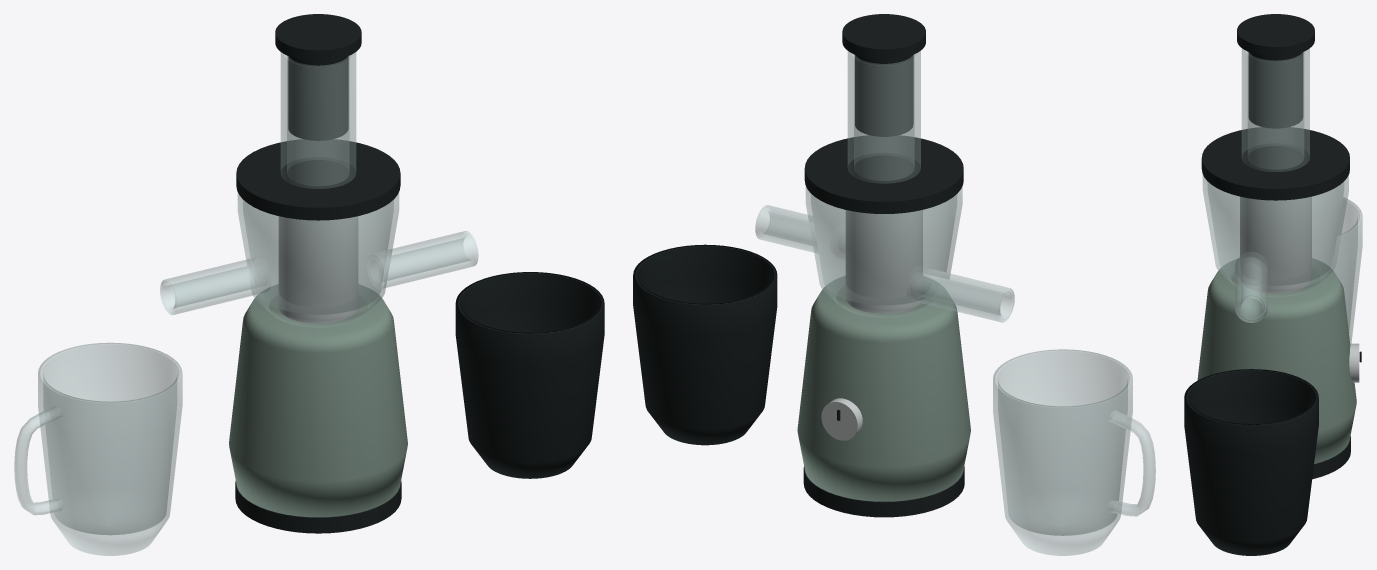
The model's file is kitchen-slow-juicer.glb.
3 views of the same model, side by side, from view 1: azimuth 30°, elevation 25°; view 2: azimuth 150°, elevation 25°; view 3: azimuth 270°, elevation 25° (orthographic). The views are drawn at different scales.
Visible parts, largest first — view 1: glass_surfaces, dark_surfaces, sage_surfaces, steel_surfaces; view 2: glass_surfaces, dark_surfaces, sage_surfaces, steel_surfaces; view 3: dark_surfaces, glass_surfaces, sage_surfaces, steel_surfaces.
Boxes of the visible parts, x1,y1,x2,y2 form: glass_surfaces: [14, 52, 478, 555]; dark_surfaces: [235, 14, 604, 533]; sage_surfaces: [229, 284, 407, 517]; steel_surfaces: [278, 216, 358, 323]; glass_surfaces: [755, 51, 1155, 555]; dark_surfaces: [633, 14, 964, 517]; sage_surfaces: [797, 276, 970, 501]; steel_surfaces: [821, 210, 922, 440]; dark_surfaces: [1184, 14, 1361, 555]; glass_surfaces: [1202, 48, 1362, 343]; sage_surfaces: [1197, 258, 1356, 463]; steel_surfaces: [1240, 196, 1359, 382].
Size of the model in its own units: 0.5918 by 0.4765 by 0.183.
